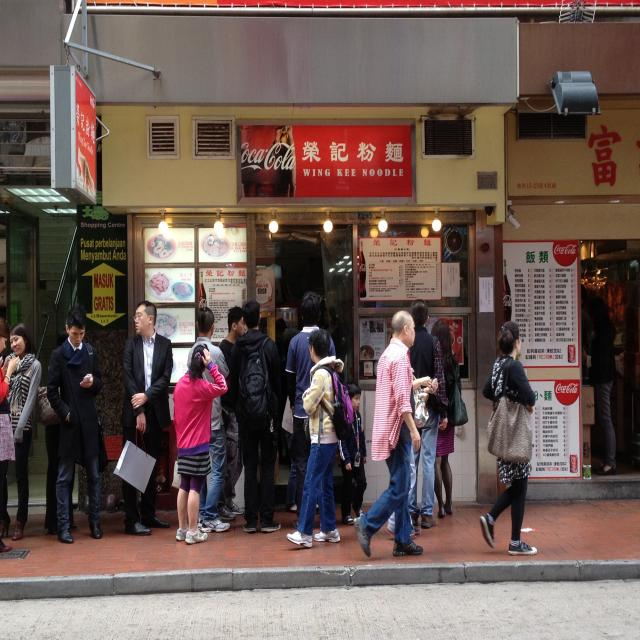body: (270, 224, 376, 546), (351, 306, 426, 560), (282, 324, 357, 550), (43, 302, 110, 546), (476, 318, 541, 560), (576, 245, 640, 477), (226, 298, 286, 536), (283, 289, 338, 532), (119, 298, 174, 538), (171, 342, 229, 546), (188, 304, 232, 534), (408, 297, 451, 530), (36, 327, 82, 537), (1, 320, 43, 542), (427, 314, 470, 522), (579, 295, 623, 480), (218, 305, 246, 521), (0, 321, 23, 542), (338, 380, 368, 526)
